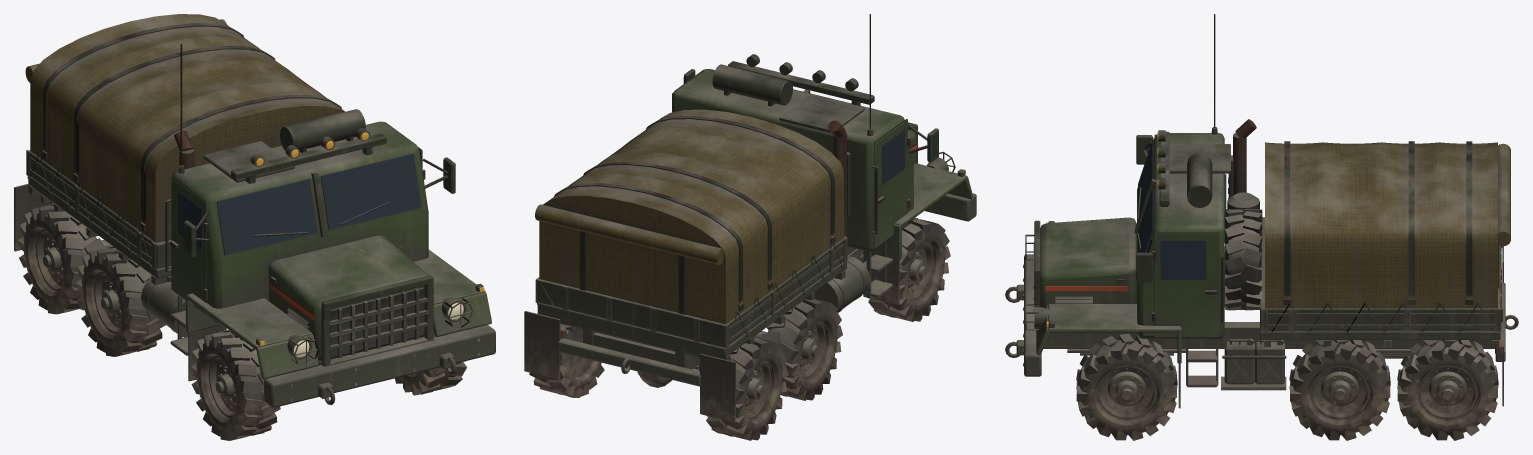
File: Weathered_Truck.fbx
3 renders of one model, left to right at view 1: azimuth 30°, elevation 25°; view 2: azimuth 150°, elevation 25°; view 3: azimuth 270°, elevation 25°, orthographic. The views are drawn at different scales.
Visible parts, largest first — view 1: Enemy_Truck_Mesh; view 2: Enemy_Truck_Mesh; view 3: Enemy_Truck_Mesh.
Boxes of the visible parts, x1,y1,x2,y2 form: Enemy_Truck_Mesh: (14,14,495,440); Enemy_Truck_Mesh: (524,14,976,440); Enemy_Truck_Mesh: (1005,14,1518,440).
Bounding box in the file's own units: 2.26 × 2.91 × 4.1.
